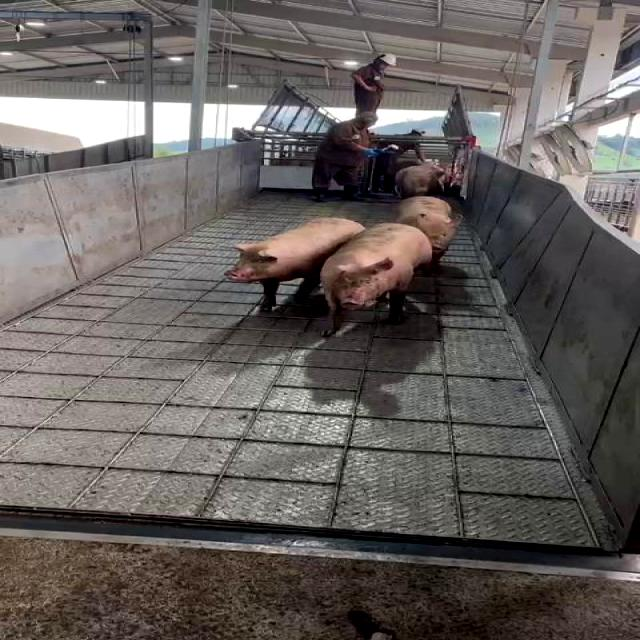pig: (227, 219, 364, 311), (321, 224, 433, 336), (396, 196, 463, 272)
